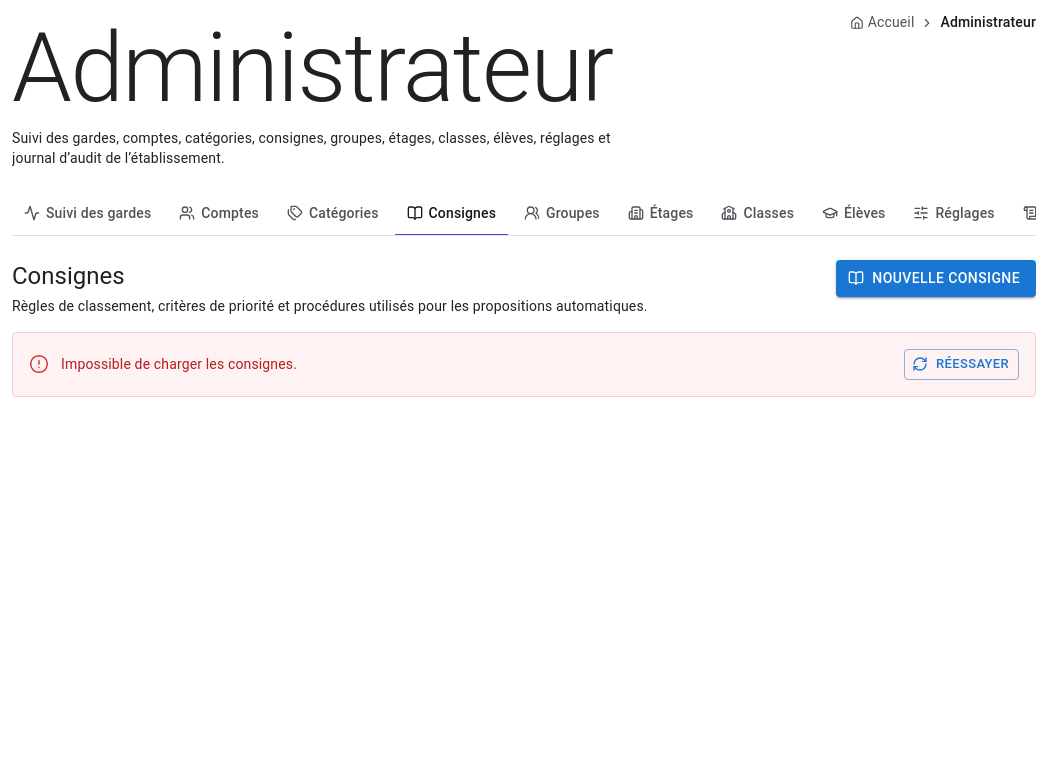
Test case: Consignes › affiche une erreur avec « Réessayer », qui recharge la liste
Expected: the text "Impossible de charger les consignes." is shown, [61, 356, 297, 372]
Click the button "Réessayer": (962, 364) [904, 349, 1019, 380]
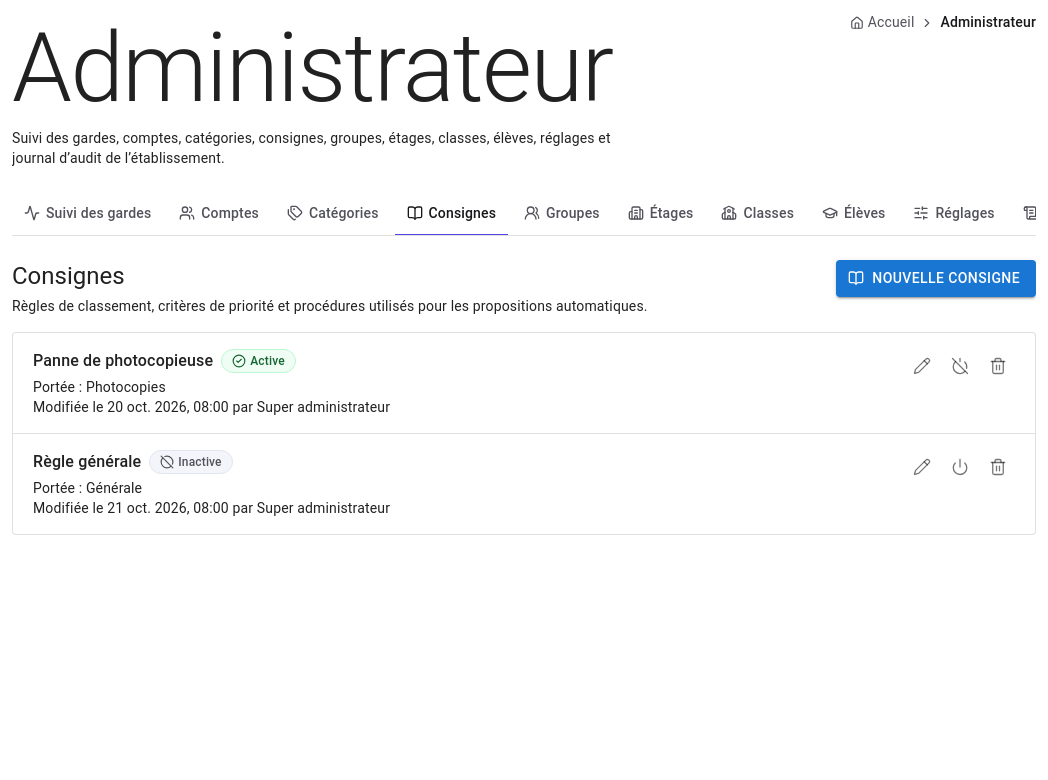
Expected: the text "Panne de photocopieuse" is shown, [33, 349, 213, 373]
